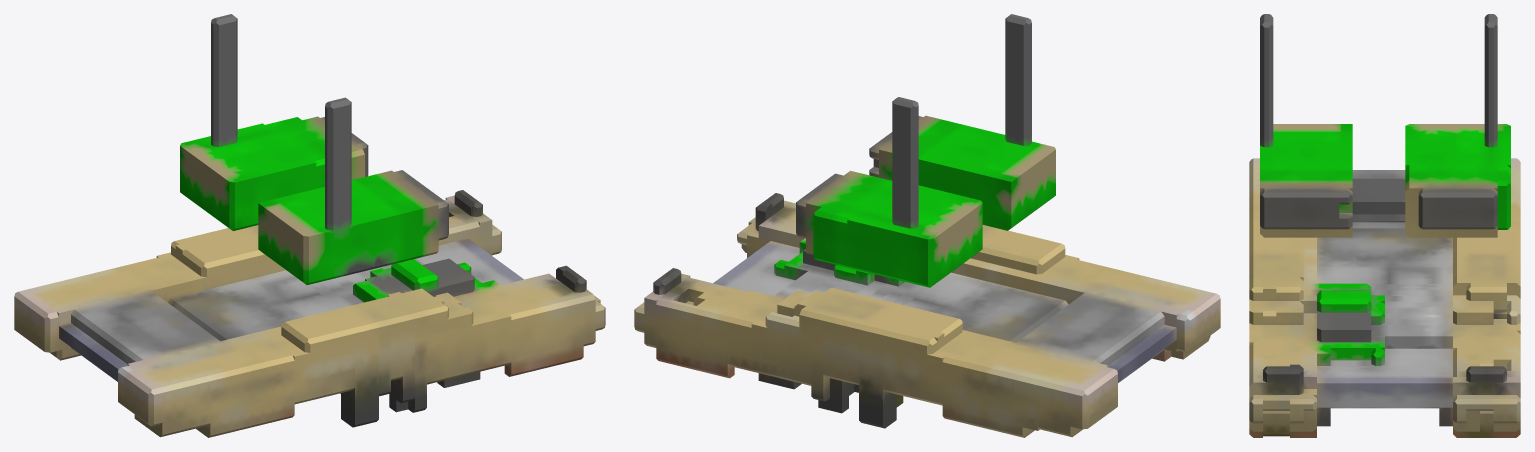
File: hover-mlrs.glb
3 views of the same model, side by side, from view 1: azimuth 30°, elevation 25°; view 2: azimuth 150°, elevation 25°; view 3: azimuth 270°, elevation 25° (orthographic).
Visible parts, largest first — view 1: hull_dummy01, rack_dummy01; view 2: hull_dummy01, rack_dummy01; view 3: hull_dummy01, rack_dummy01.
Part boxes in pixels (x1=…): hull_dummy01: x1=14, y1=190, x2=605, y2=437; rack_dummy01: x1=180, y1=14, x2=448, y2=284; hull_dummy01: x1=634, y1=193, x2=1220, y2=437; rack_dummy01: x1=796, y1=14, x2=1055, y2=287; hull_dummy01: x1=1249, y1=158, x2=1520, y2=437; rack_dummy01: x1=1260, y1=14, x2=1510, y2=237.
Size of the model in its own units: 1.15 by 0.78 by 0.602.
